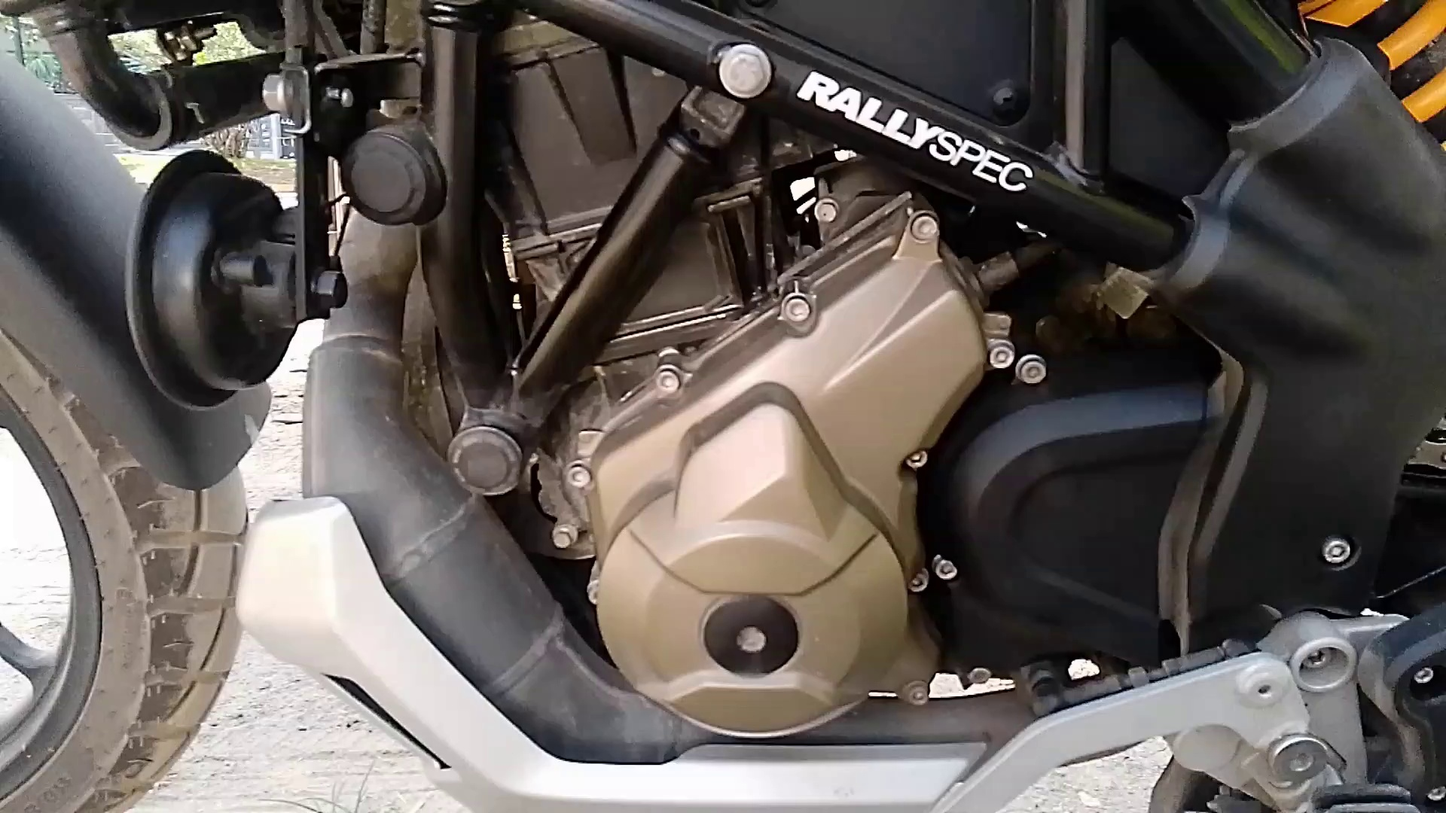engine: (508, 100, 1051, 764)
